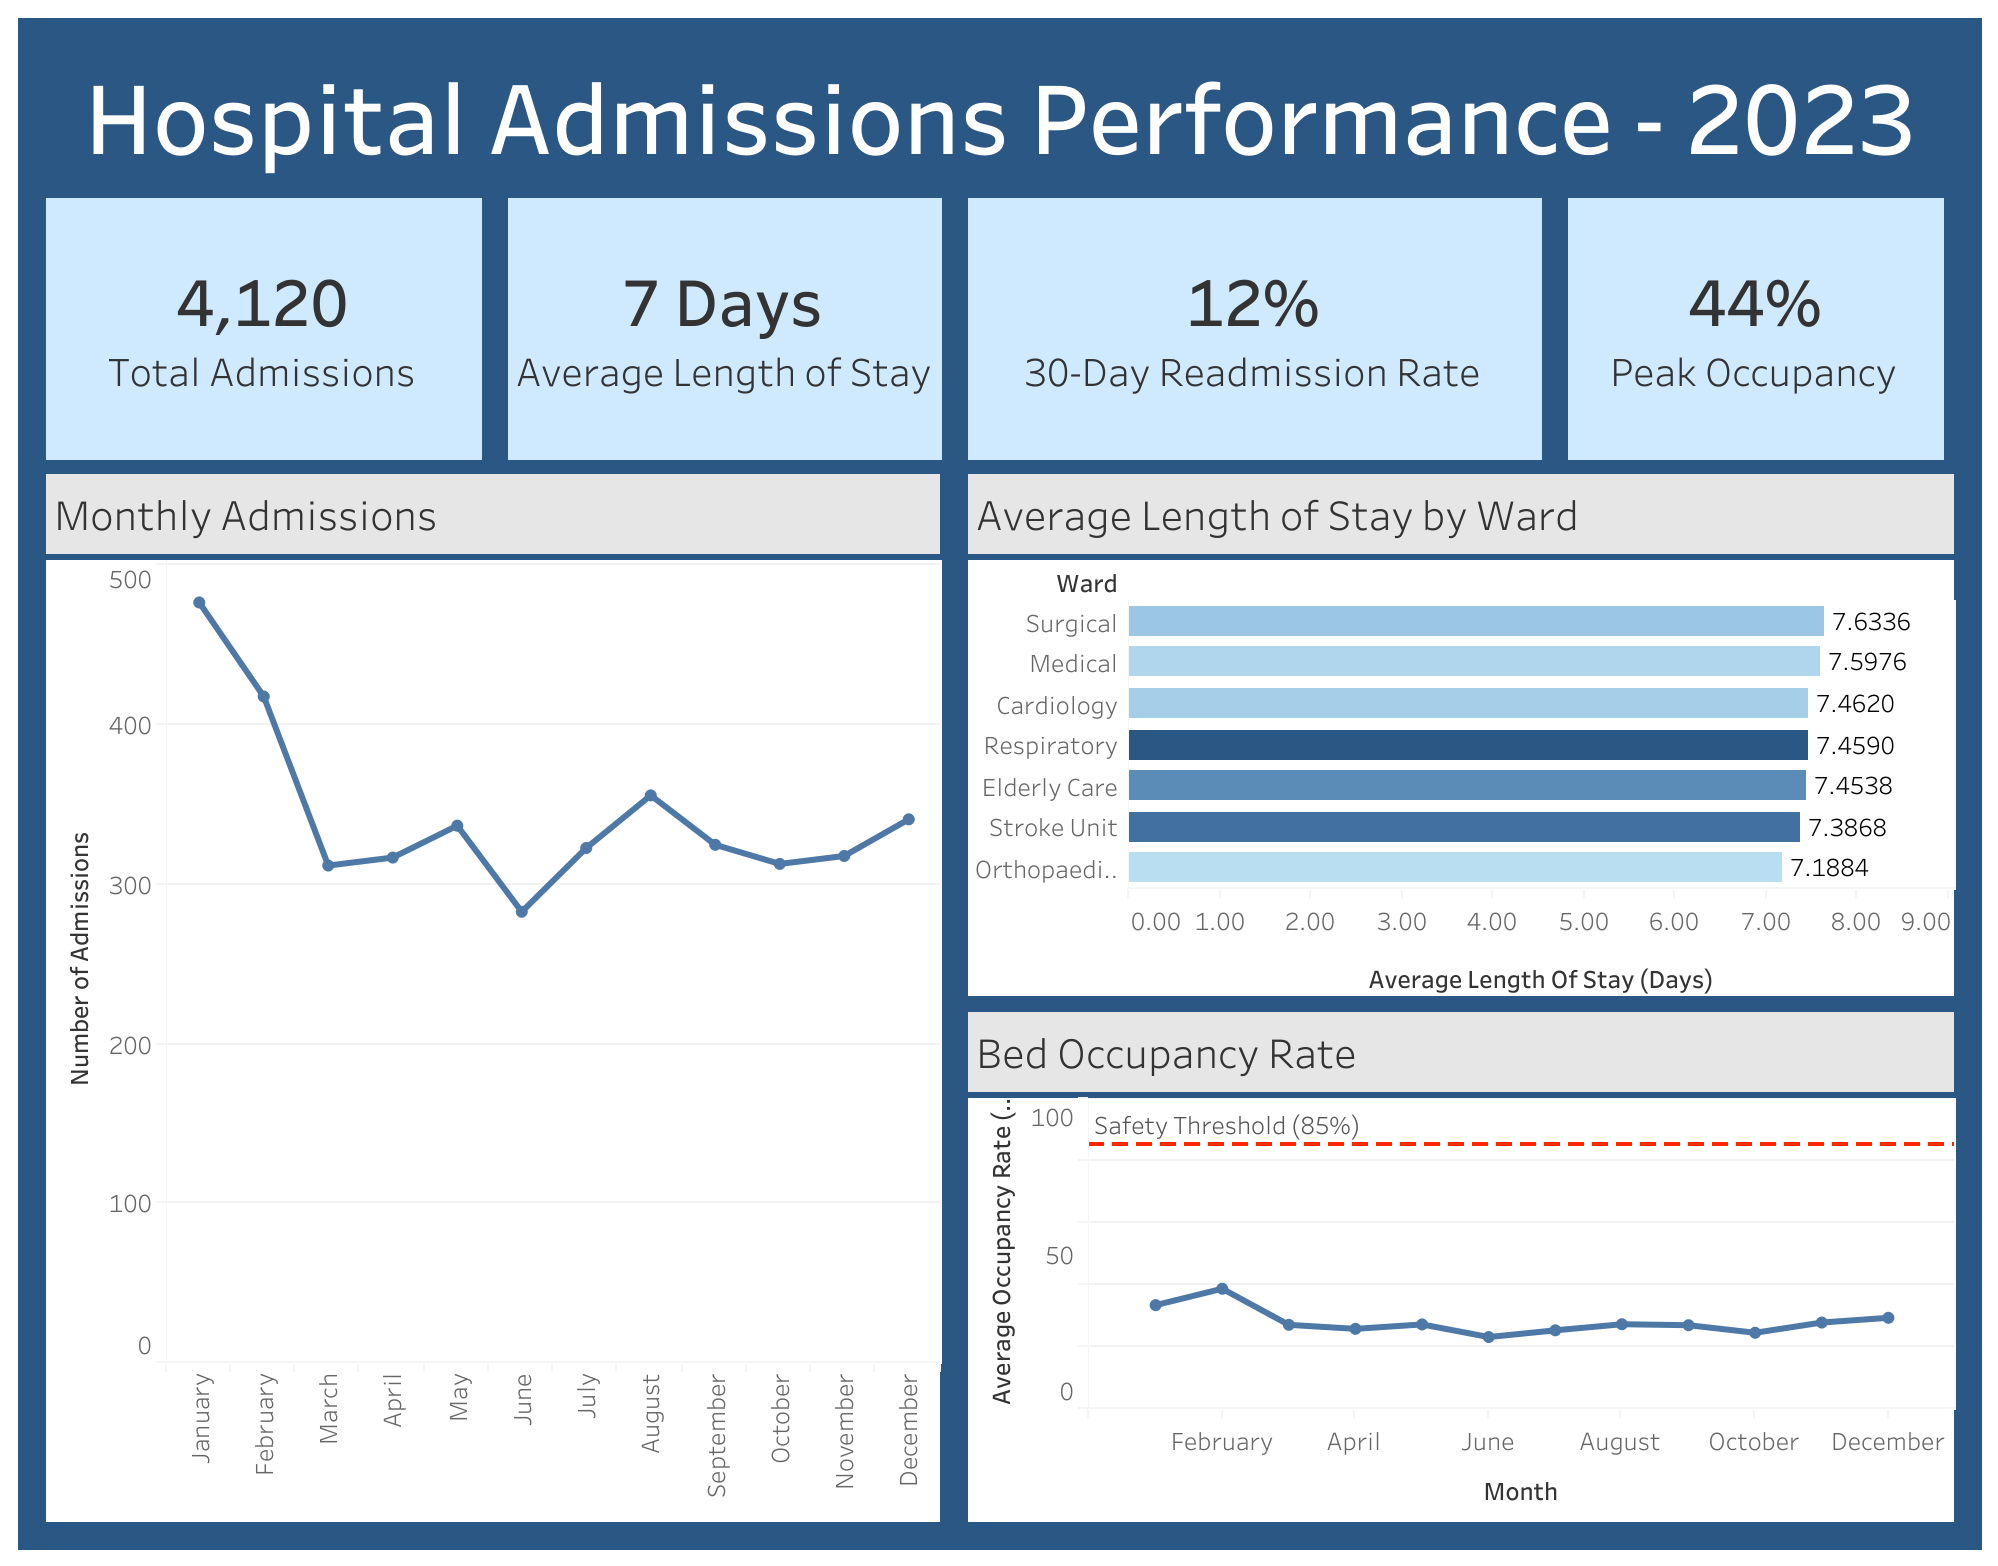

The dashboard page shown, as its layout file describes it:
{"tool":"tableau","page":{"name":"Hospital Admissions Performace - 2023","canvas":[1000,1000],"units":"permille","ordinal":0},"visuals":[{"type":"text","box":[15.8,23.8,968.3,95]},{"type":"worksheet","title":"Total Admissions","mark":"Text","box":[15.8,118.8,232.1,178]},{"type":"worksheet","title":"Average Length of Stay","mark":"Text","box":[247.9,118.8,232.1,178]},{"type":"worksheet","title":"30-Day Readmission Rate","mark":"Text","box":[480,118.8,250,178]},{"type":"worksheet","title":"Peak Occupancy","mark":"Text","box":[730,118.8,254.2,178]},{"type":"worksheet","title":"Monthly Admissions","mark":"Line","rows":["patient_id"],"cols":["admission_date"],"box":[15.8,296.8,464.2,679.5]},{"type":"worksheet","title":"Average LOS by Ward","mark":"Automatic","rows":["ward"],"cols":["length_of_stay"],"box":[480,296.8,504.2,336.2]},{"type":"worksheet","title":"Bed Occupancy Rate","mark":"Automatic","rows":["occupancy_rate"],"cols":["date"],"box":[480,633,504.2,343.2]}]}

Visuals, with their boxes on the dashboard's canvas, which has no fixed pixel size, in thousandths of its width and height (x1, y1, x2, y2). These are canvas units, not pixel positions in the 1998x1566 screenshot, which may show the page scaled, cropped or inside an application window:
text: 16/24/984/119
"Total Admissions" worksheet (Text marks): 16/119/248/297
"Average Length of Stay" worksheet (Text marks): 248/119/480/297
"30-Day Readmission Rate" worksheet (Text marks): 480/119/730/297
"Peak Occupancy" worksheet (Text marks): 730/119/984/297
"Monthly Admissions" worksheet (Line marks): 16/297/480/976
"Average LOS by Ward" worksheet: 480/297/984/633
"Bed Occupancy Rate" worksheet: 480/633/984/976
